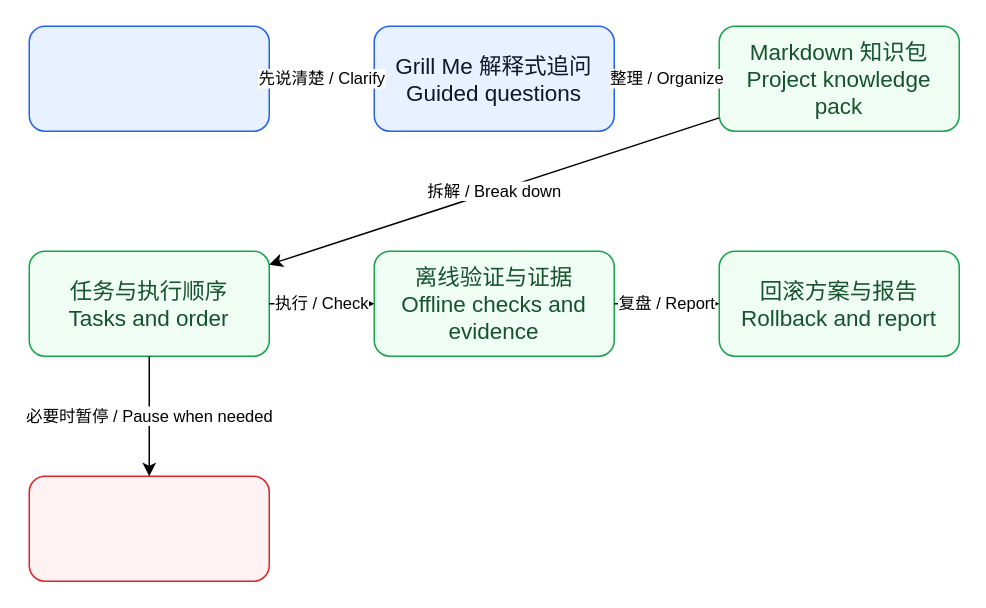
Image size: 986x608. Some labels were removed from this diagram. Here are the shapes that lost their labels. From the top down, the centre of each, then its label:
At (148,78): "一句中文想法 A rough idea".
At (148,528): "人工确认 Gate Secrets · money · network · deploy · release".
